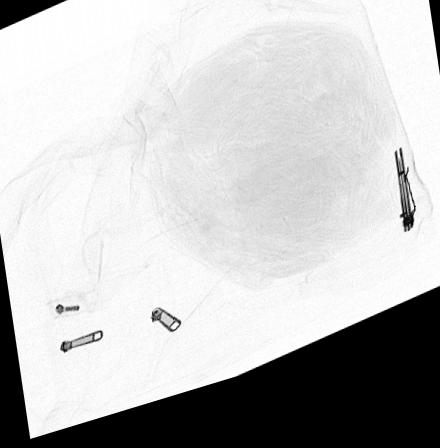Knife: (393, 169, 418, 259)
